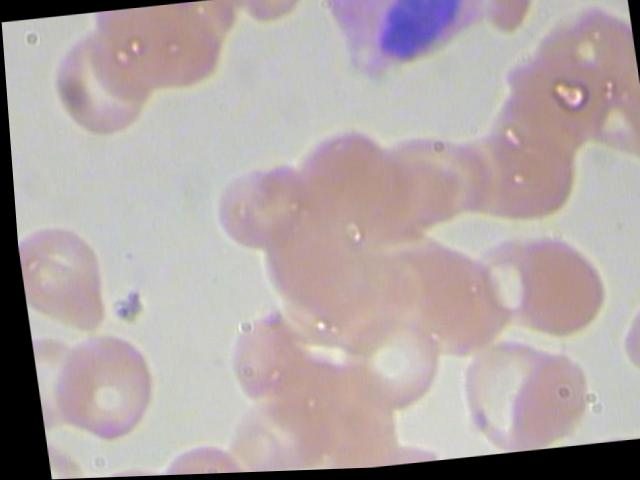Platelets: (321, 0, 504, 108)
Red Blood Cells: (34, 17, 170, 148), (33, 322, 160, 451), (484, 224, 612, 351), (323, 301, 451, 421), (13, 213, 115, 342), (201, 151, 321, 259), (479, 346, 599, 454), (210, 306, 300, 410), (603, 285, 639, 396)
